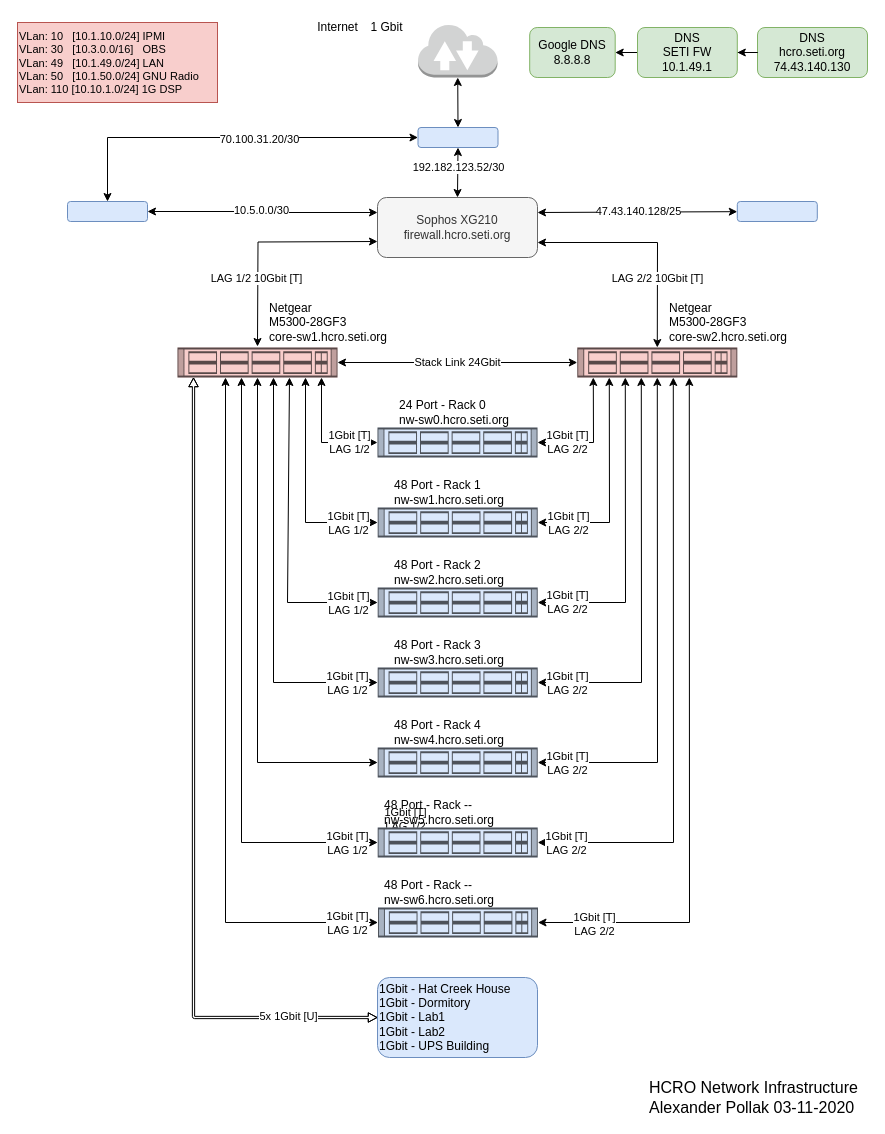
This 885x1134 diagram has some shape labels left out. Here are the shapes that lost their labels. From the top down, the box of each, then its label:
(417, 126, 498, 148): WAN SW
(66, 200, 148, 222): SRI FW
(736, 200, 817, 222): DMZ SW
